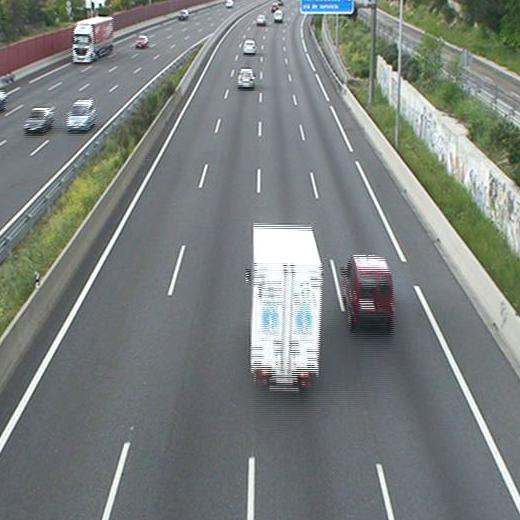car: (236, 68, 256, 88), (242, 39, 258, 56)
small-truck: (251, 223, 324, 394)
van: (343, 255, 394, 335)
